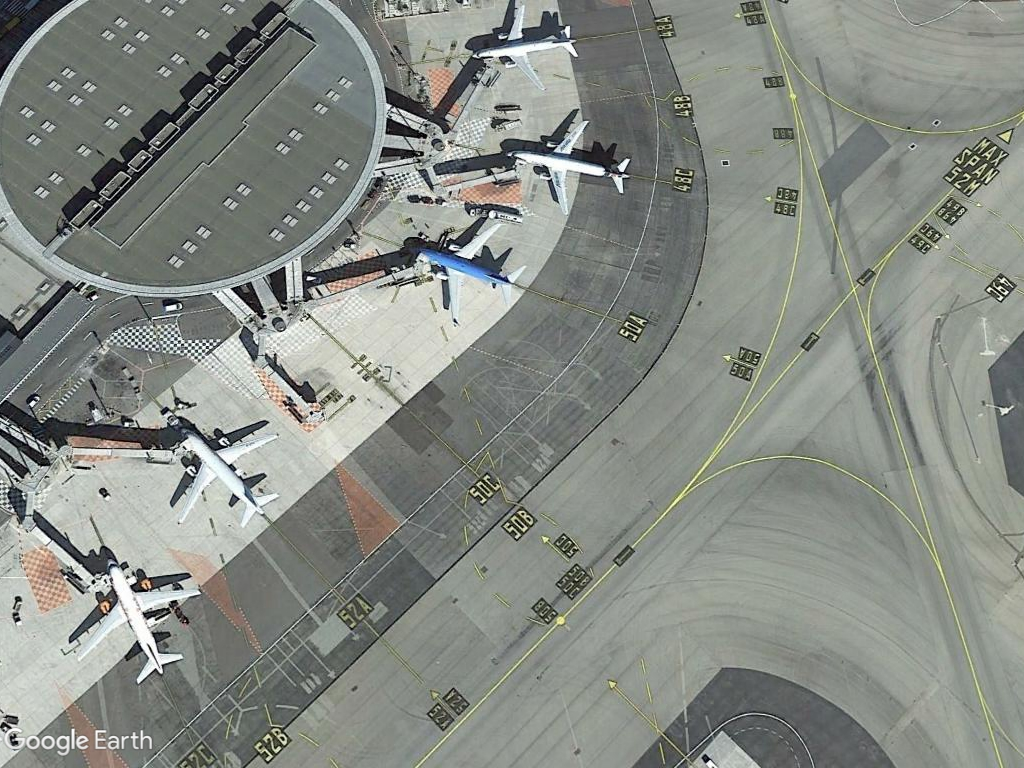airliner: (71, 560, 204, 687), (409, 217, 528, 329), (167, 425, 282, 532), (504, 121, 629, 211)
